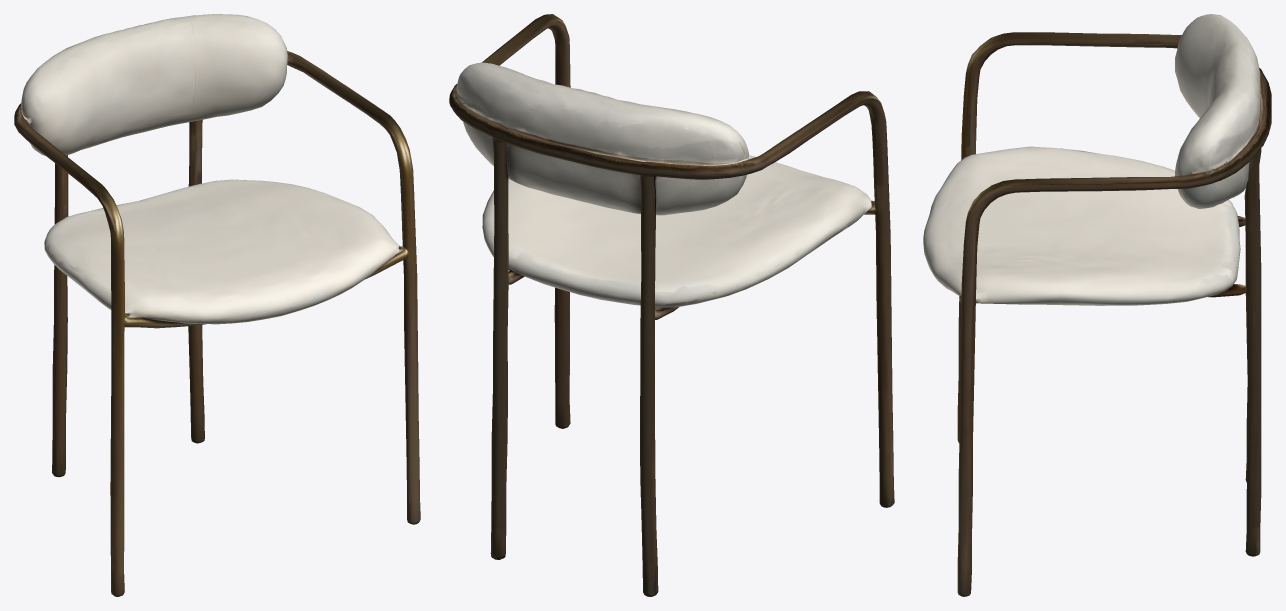
File: Parker_Chair_0404021339_texture.glb
The picture shows the model from 3 angles, left to right: view 1: azimuth 30°, elevation 25°; view 2: azimuth 150°, elevation 25°; view 3: azimuth 270°, elevation 25°; orthographic projection. The views are drawn at different scales.
Visible parts, largest first — view 1: Mesh_0; view 2: Mesh_0; view 3: Mesh_0.
Boxes of the visible parts, x1,y1,x2,y2 form: Mesh_0: (14, 14, 420, 596); Mesh_0: (449, 14, 894, 596); Mesh_0: (923, 14, 1271, 596).
Size of the model in its own units: 0.5992 by 0.8128 by 0.5591.
Materials: 1 (1 with a texture image).
